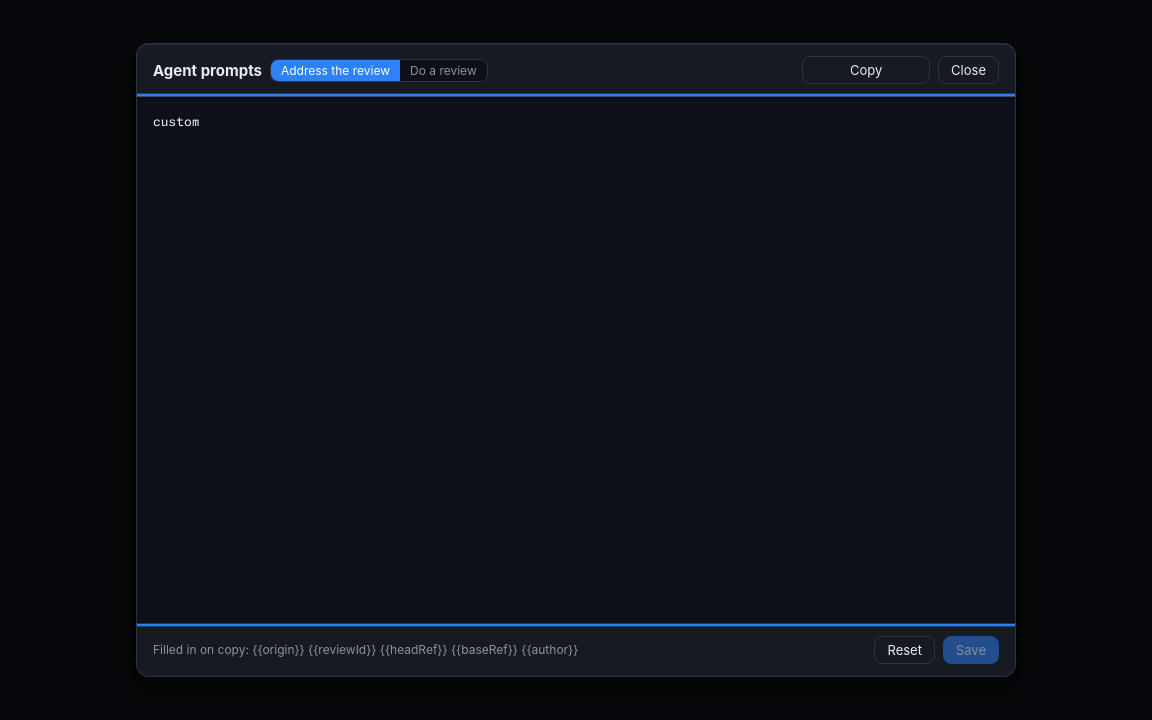
Test: reset drops the stored override and restores the built-in text
Expected: the text box holds "custom", [137, 97, 1015, 623]
Click the button "Reset" at [905, 650], box [874, 636, 935, 664]
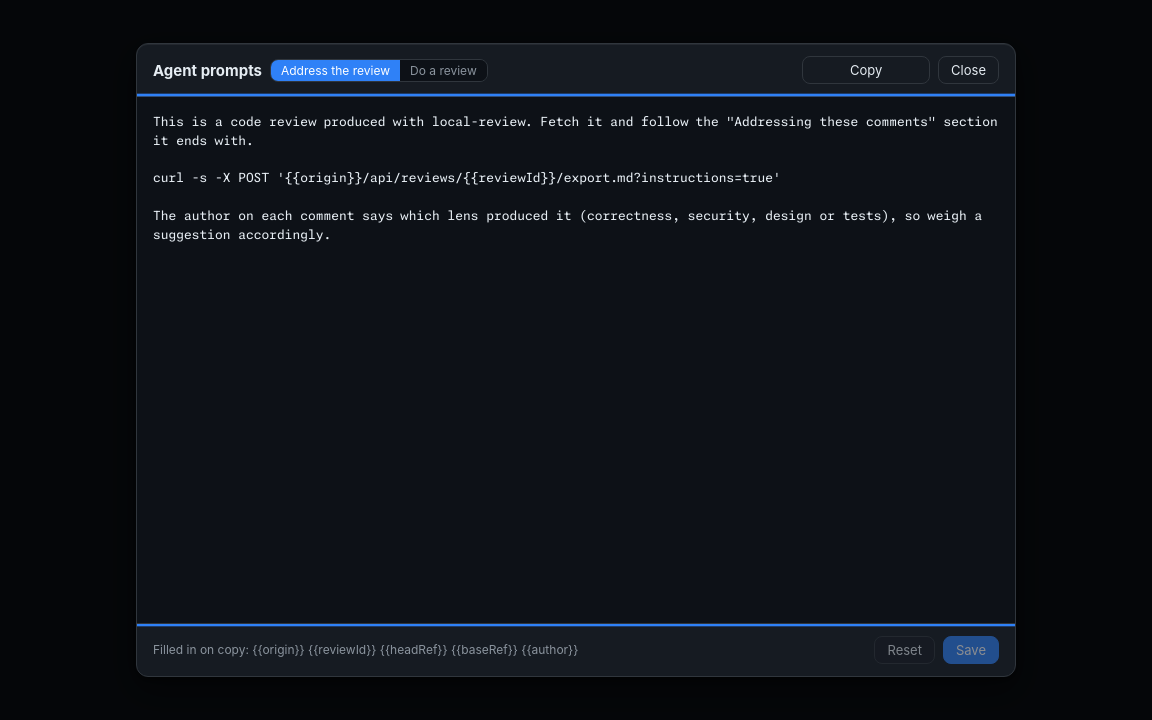
Now the button "Reset" is disabled, box [874, 636, 935, 664]
